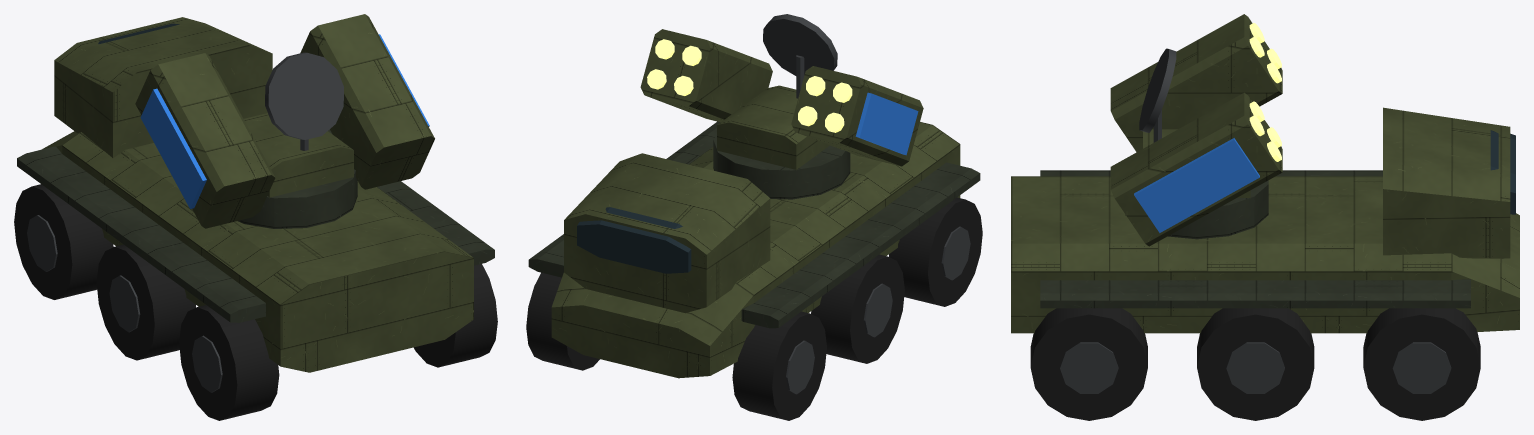
Rendered from militar_antiaereo.glb.
3 renders of one model, left to right at view 1: azimuth 30°, elevation 25°; view 2: azimuth 150°, elevation 25°; view 3: azimuth 270°, elevation 25°, orthographic. The views are drawn at different scales.
Visible parts, largest first — view 1: Body_Hull, Turret_Hull, Body_Track, Body_HullDark, Turret_Metal, Body_Metal, Turret_HullDark, Turret_TeamColor; view 2: Body_Hull, Body_Track, Turret_Hull, Body_HullDark, Body_Glass, Turret_HullDark, Turret_Metal, Body_Metal, Turret_Glow, Turret_TeamColor; view 3: Body_Hull, Body_Track, Turret_Hull, Body_HullDark, Body_Metal, Turret_TeamColor, Turret_HullDark, Turret_Metal, Turret_Glow, Body_Glass.
Part boxes in pixels (x1,y1,x2,y2): Body_Hull: (42,17,473,372); Turret_Hull: (135,14,434,228); Body_Track: (14,184,497,420); Body_HullDark: (17,129,494,322); Turret_Metal: (265,52,343,150); Body_Metal: (27,215,222,392); Turret_HullDark: (238,169,357,228); Turret_TeamColor: (140,34,429,208); Body_Hull: (551,122,960,378); Body_Track: (526,197,982,420); Turret_Hull: (640,29,923,170); Body_HullDark: (528,121,980,328); Body_Glass: (577,207,691,273); Turret_HullDark: (713,135,850,199); Turret_Metal: (763,14,837,98); Body_Metal: (786,226,970,394); Turret_Glow: (647,39,852,132); Turret_TeamColor: (855,92,918,155); Body_Hull: (1011,107,1519,333); Body_Track: (1030,308,1480,420); Turret_Hull: (1110,14,1282,246); Body_HullDark: (1040,170,1470,308); Body_Metal: (1060,342,1451,393); Turret_TeamColor: (1134,138,1259,232); Turret_HullDark: (1125,180,1268,239); Turret_Metal: (1139,48,1176,142); Turret_Glow: (1249,23,1281,161); Body_Glass: (1490,130,1515,214).
Size of the model in its own units: 3.15 by 3.43 by 5.2.
7 materials, 2 textured.
